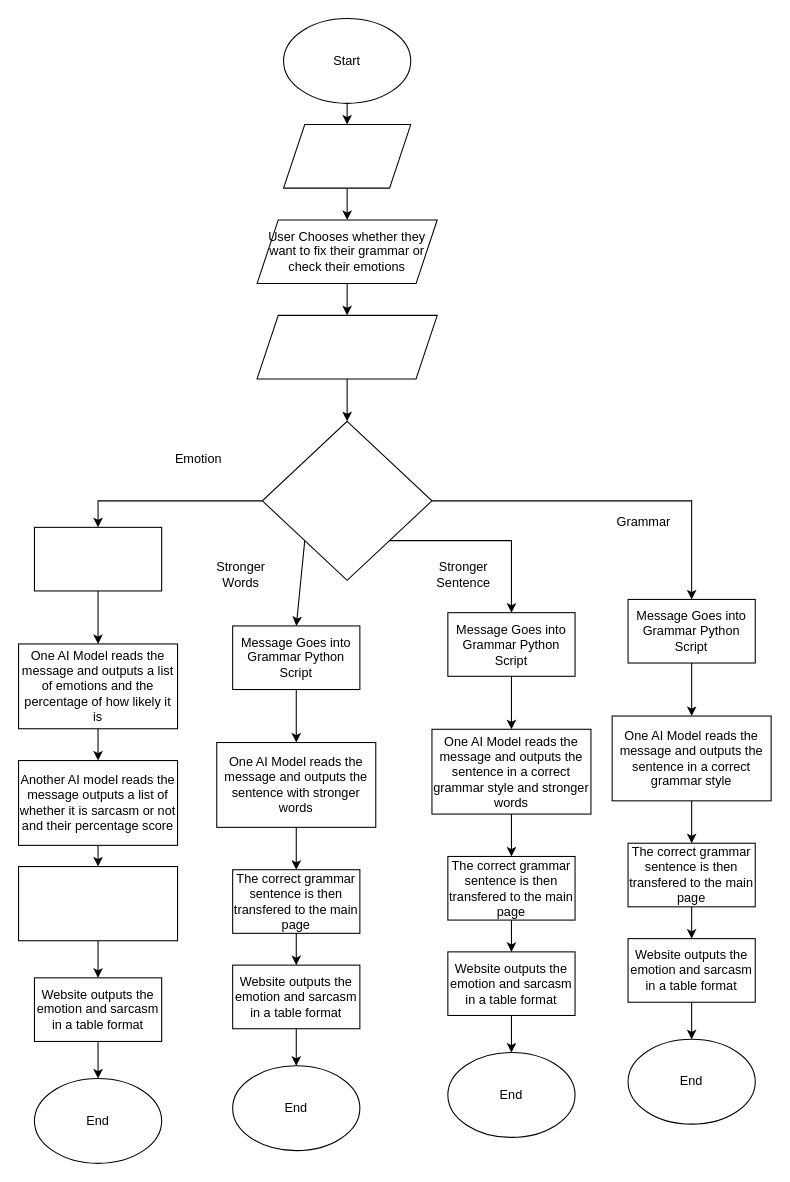
This 790x1182 diagram has some shape labels left out. The centre of each missing label's shape, as x and y in pixels:
Both emotion and sarcasm lists are then transferred to the website: point (97, 903)
Checks on the options that the user picked: point (346, 500)
Message Goes into Emotion Python Script: point (97, 558)
User Inputs Text: point (346, 155)
User presses enter: point (346, 346)
